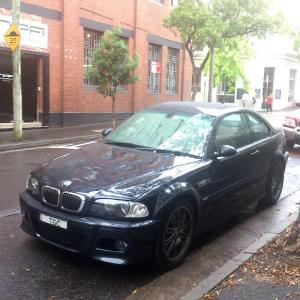Vehicle-registration-plate: (41, 215, 68, 230)
